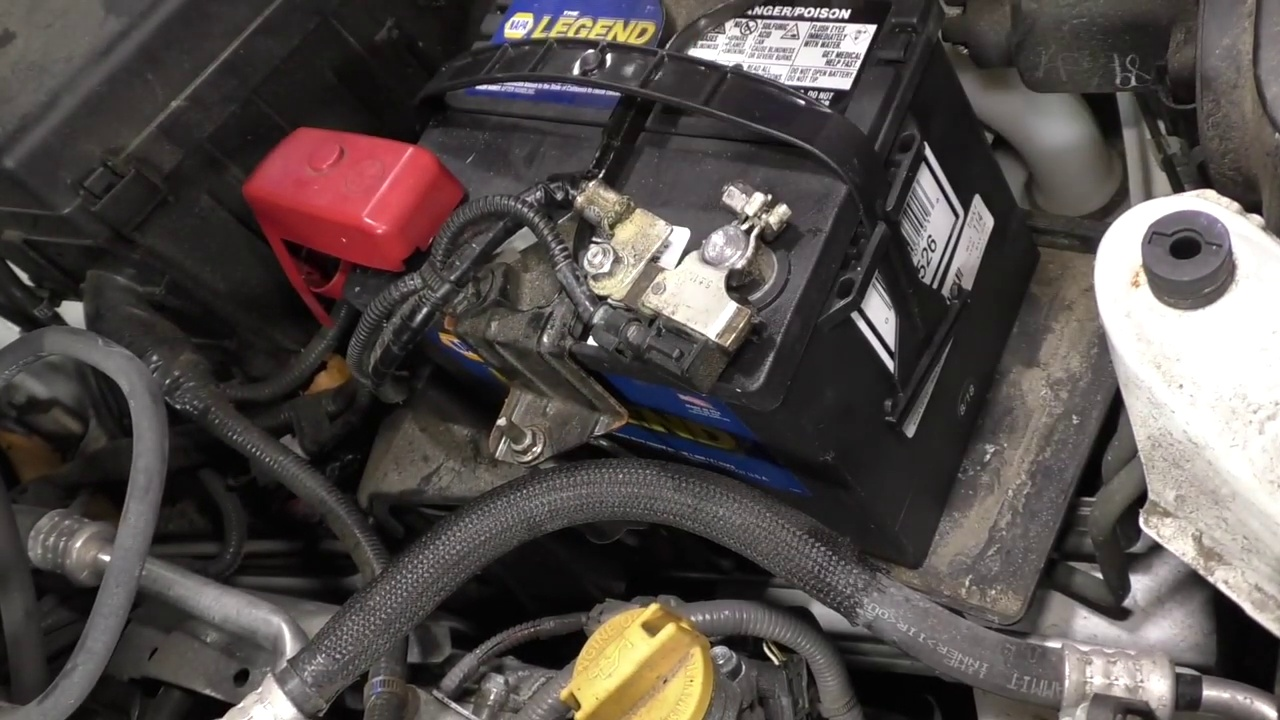battery: (349, 9, 900, 393)
neg_connected: (646, 187, 797, 378)
pos_connected: (231, 113, 468, 339)
